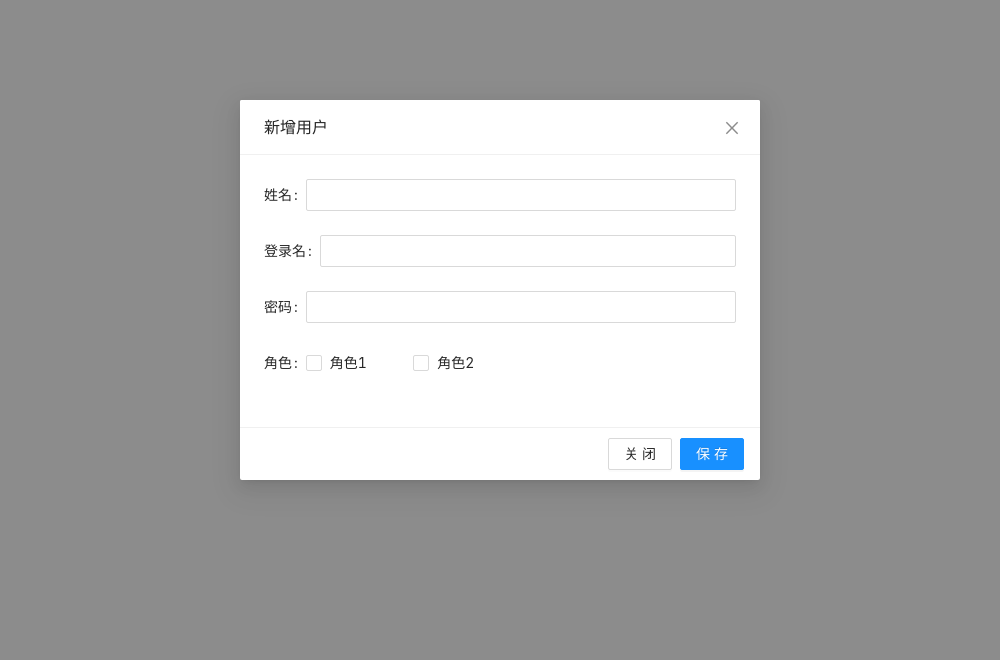
Test: AddUser.cy.ts › should 提示成功并清空部分输入，当保存并继续
Type "张三" into the field with id "inputName" at (521, 195), box [306,179,736,211]
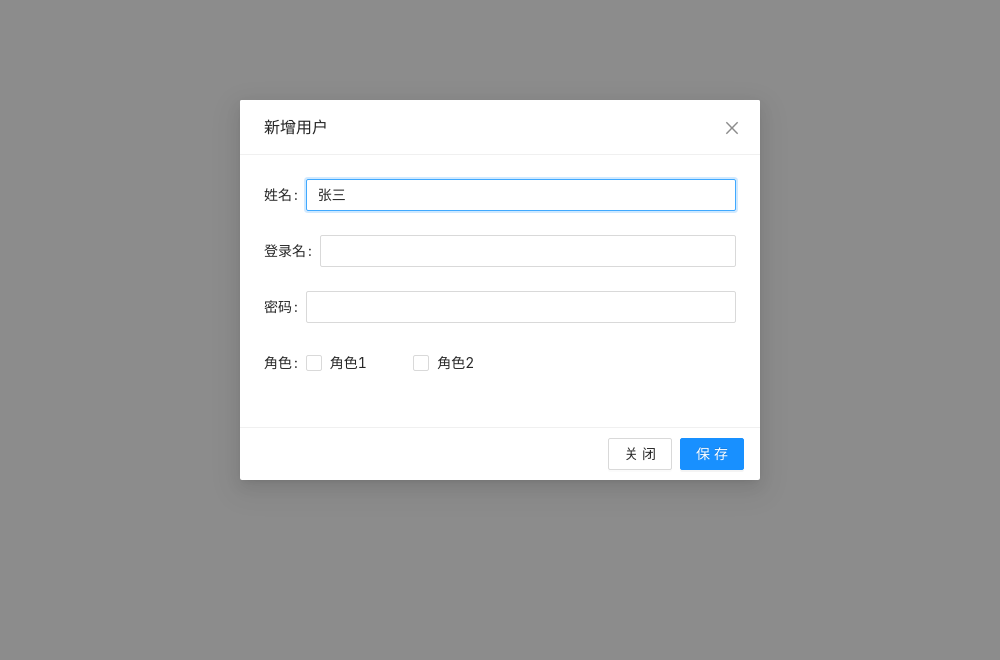
Type "zhangsan" into the field with id "inputLoginName" at (528, 251), box [320,235,736,267]
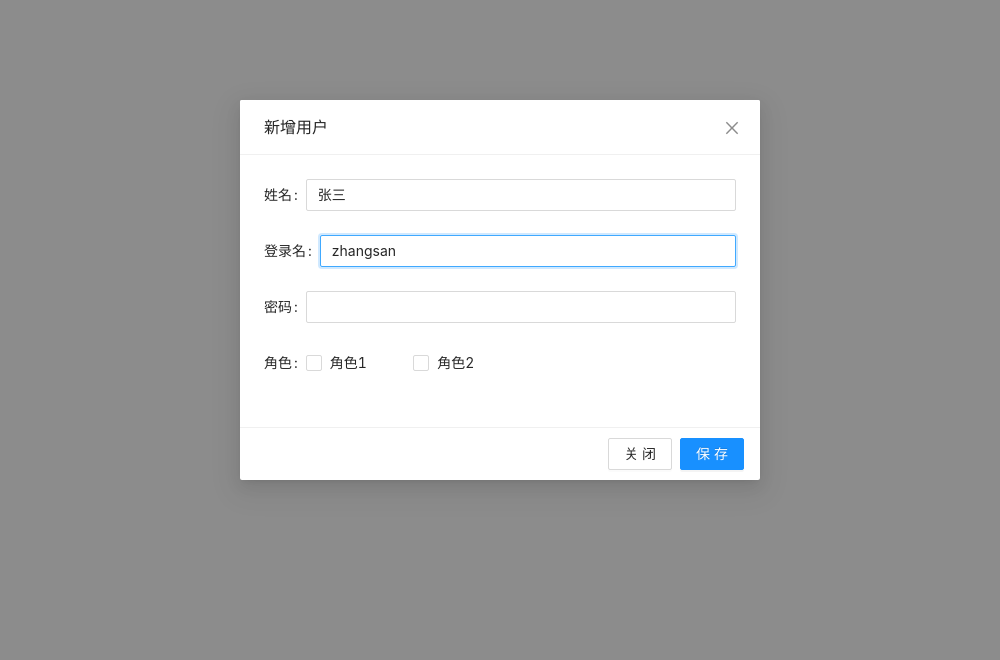
Type "123456" into the field with id "inputPassword" at (521, 307), box [306,291,736,323]
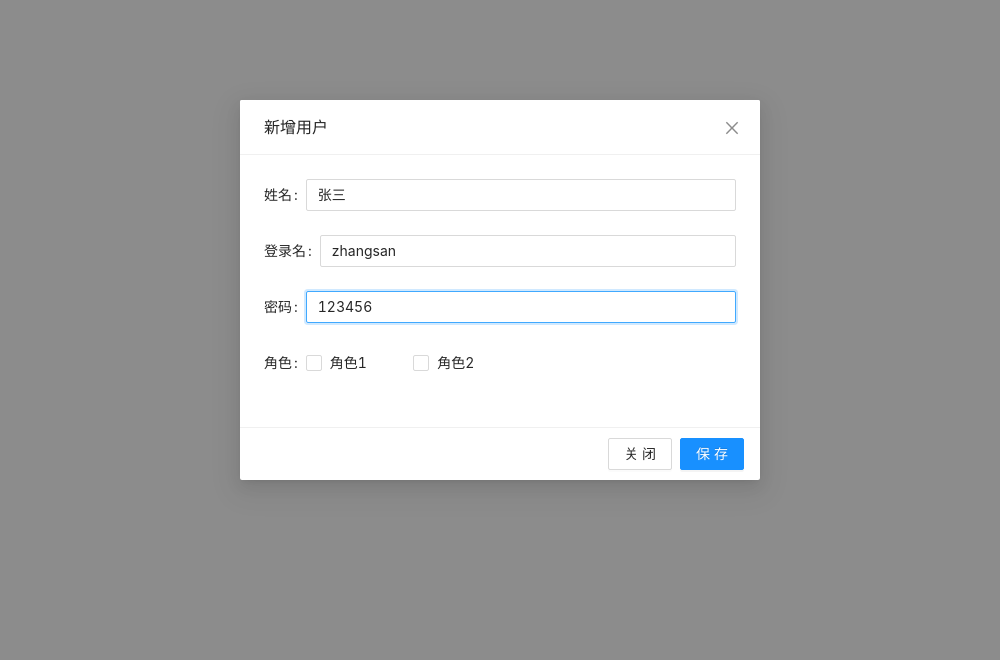
Click the checkbox "角色1" at (341, 363), box [306,352,375,374]
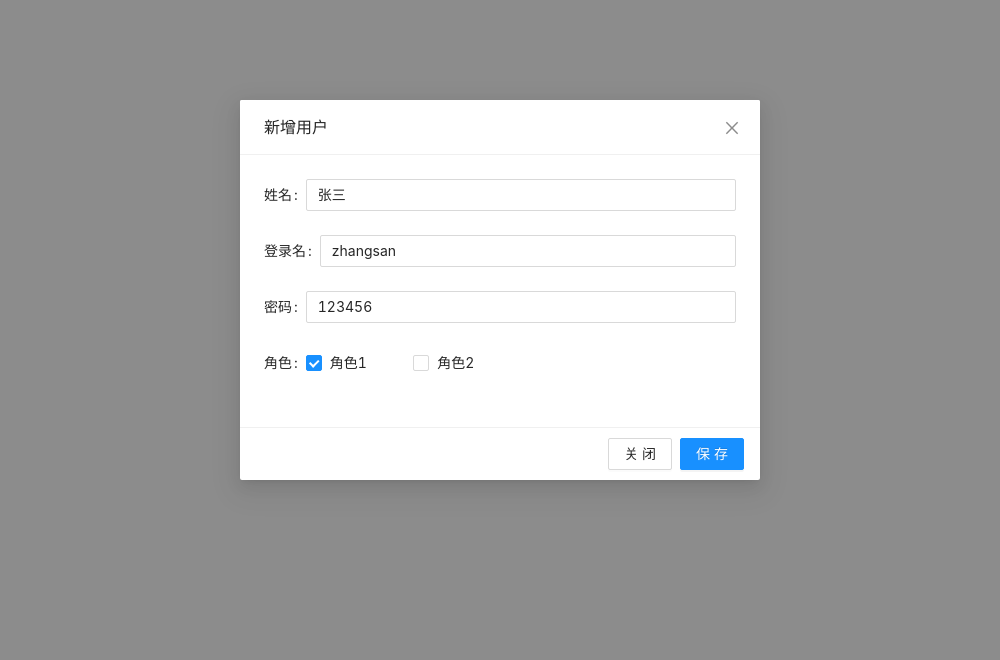
Click the button "保 存" at (712, 454), box [680,438,744,470]
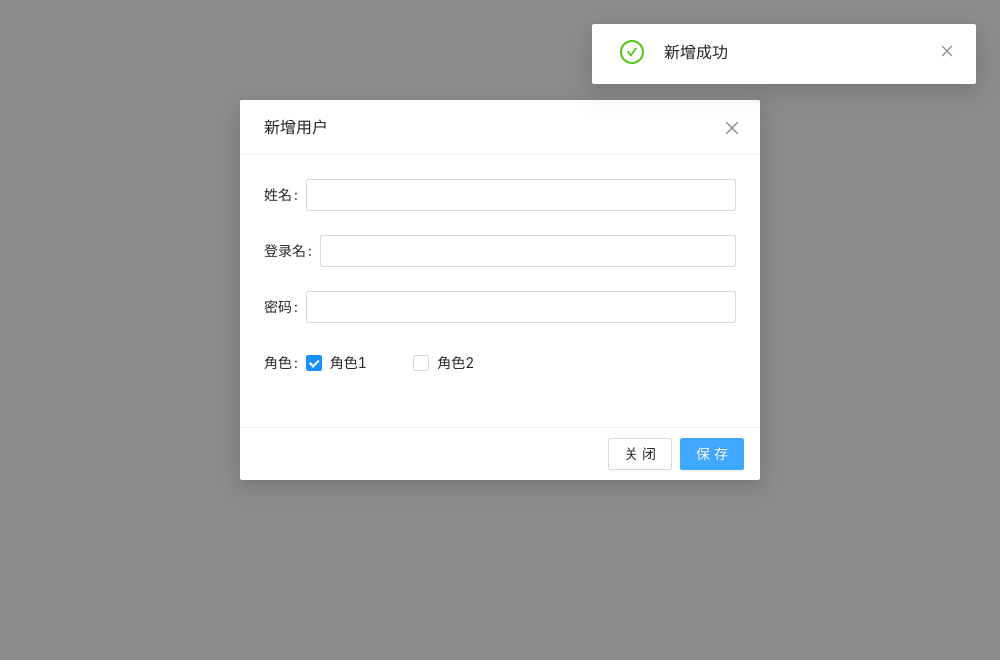
Result: the text "新增成功" is shown at [664,42,728,62]
